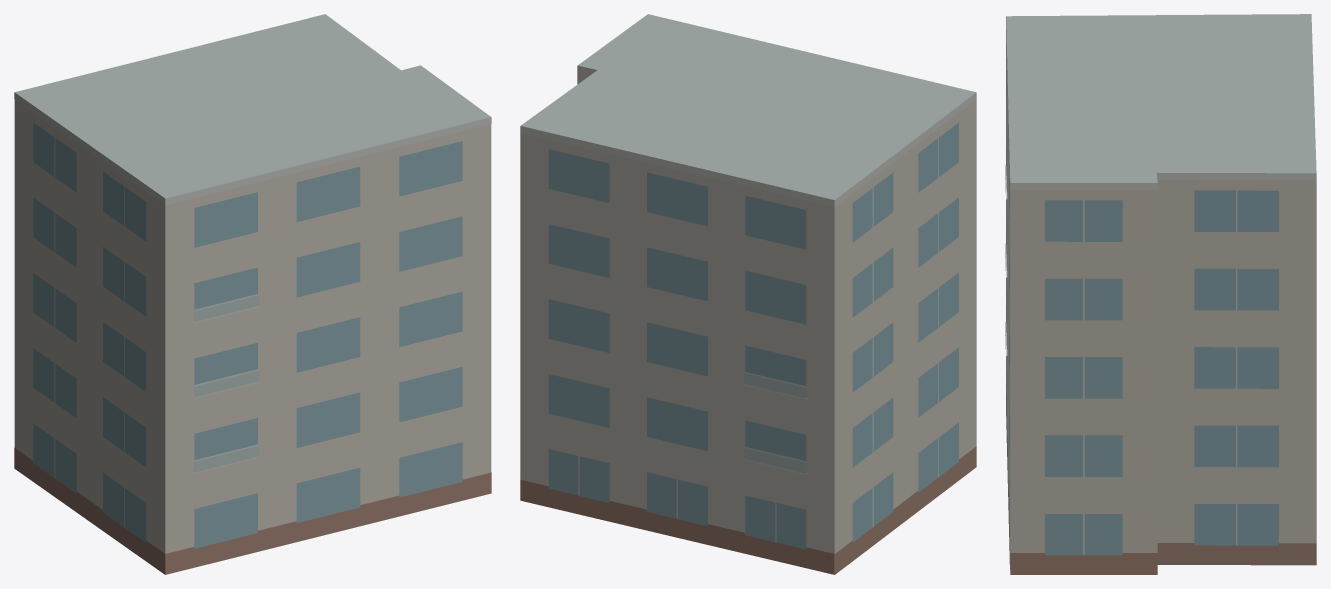
Rendered from survey-upis-32989933.glb.
The picture shows the model from 3 angles, left to right: view 1: azimuth 30°, elevation 25°; view 2: azimuth 150°, elevation 25°; view 3: azimuth 270°, elevation 25°; orthographic projection. The views are drawn at different scales.
Visible parts, largest first — view 1: survey-upis-32989933.tmp; view 2: survey-upis-32989933.tmp; view 3: survey-upis-32989933.tmp.
Boxes of the visible parts, bbox=[...] form: survey-upis-32989933.tmp: bbox=[14, 14, 491, 574]; survey-upis-32989933.tmp: bbox=[520, 14, 976, 574]; survey-upis-32989933.tmp: bbox=[1005, 14, 1316, 574].
Bounding box in the file's own units: 12.26 × 13.25 × 9.55.
